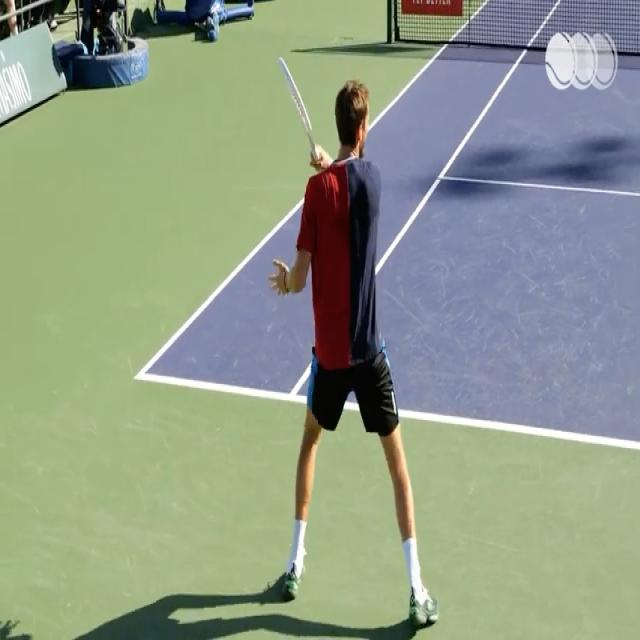forehand-finish: (267, 29, 439, 636)
